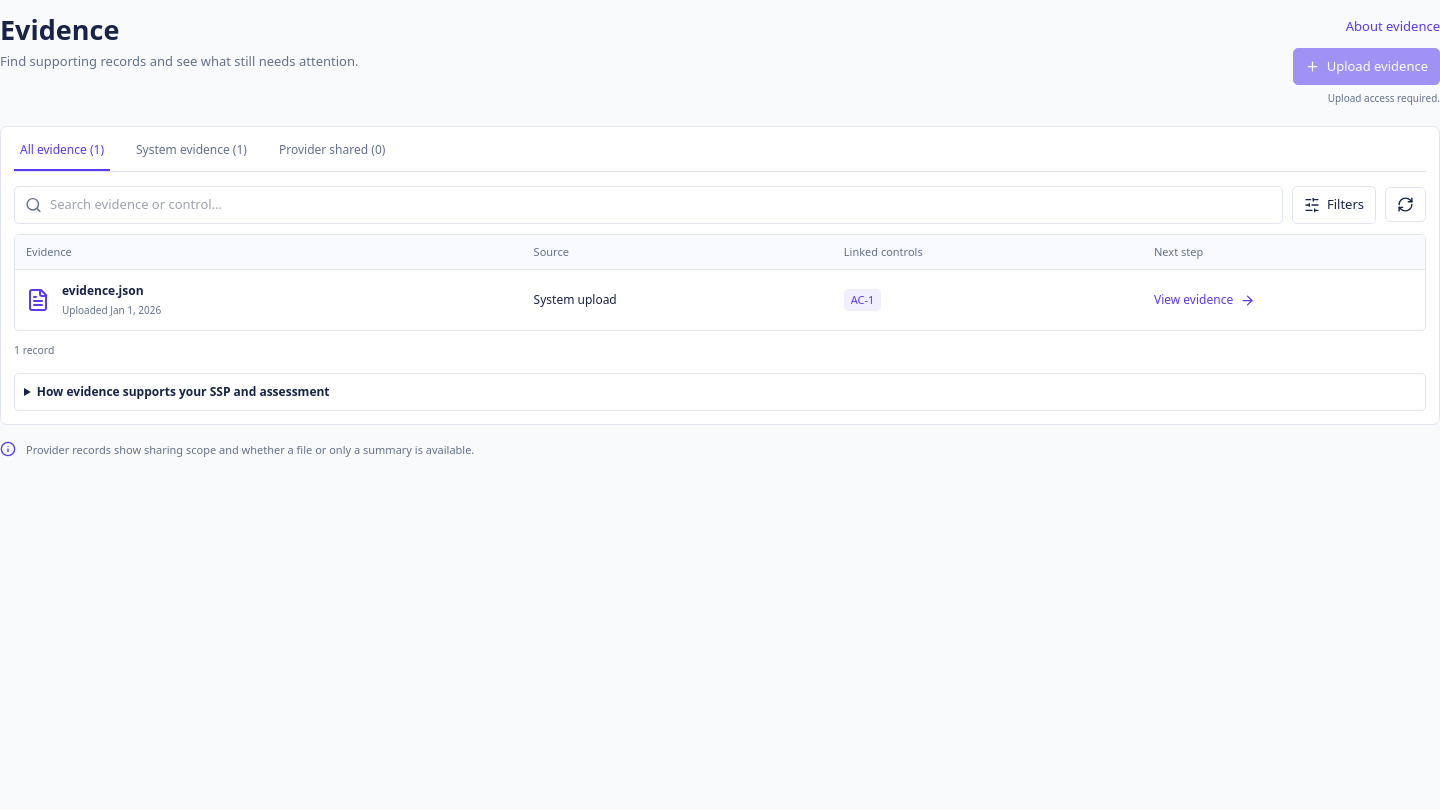
Test: Evidence mutation authorization (#1017) › opens a retained artifact through a keyboard-accessible review action
The image size is (1440, 810).
Click the button with aria-label "View evidence evidence.json": (94, 300) x1=26 y1=282 x2=161 y2=318
(page scrolled)
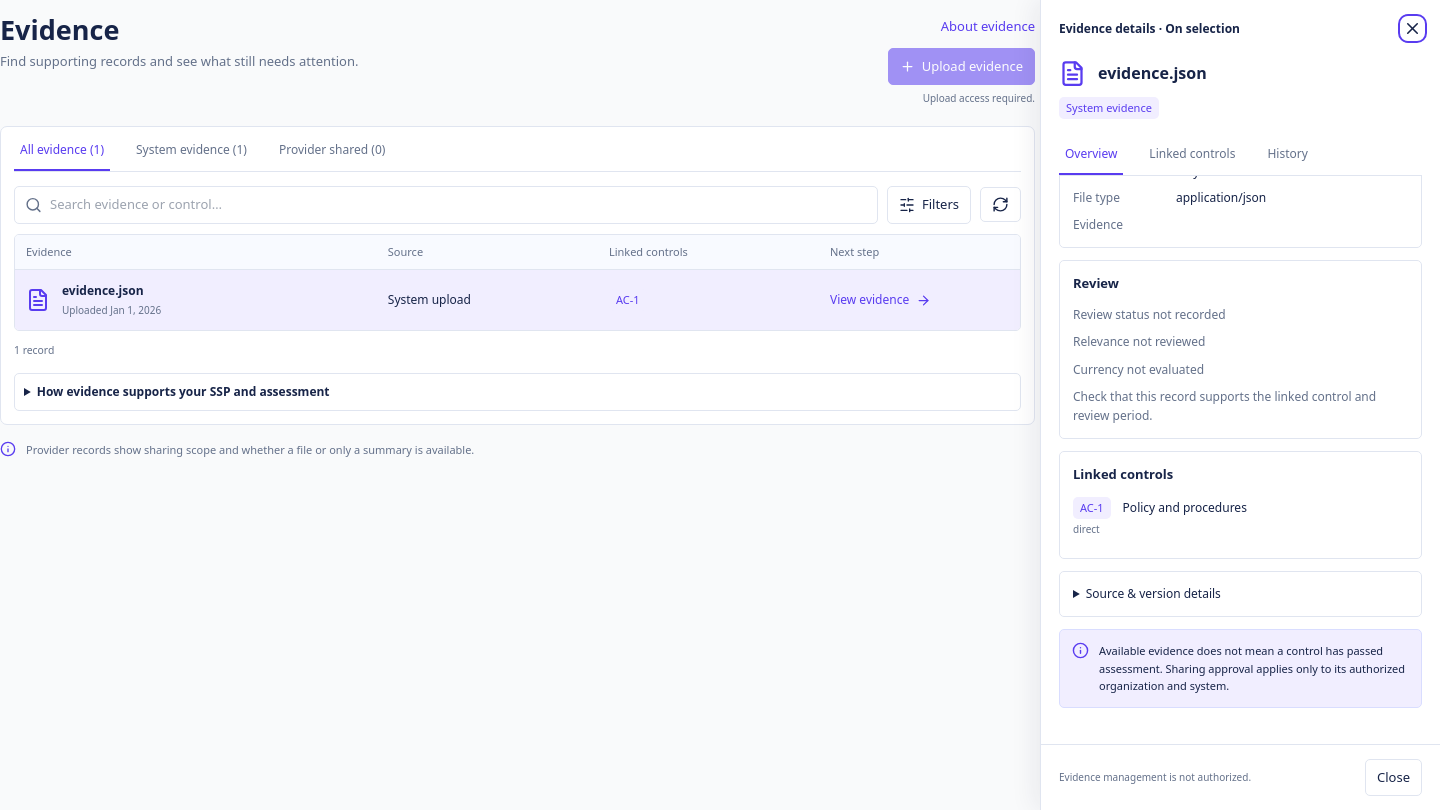
Click the heading "Source & version details": (1153, 594) x1=1086 y1=585 x2=1221 y2=602
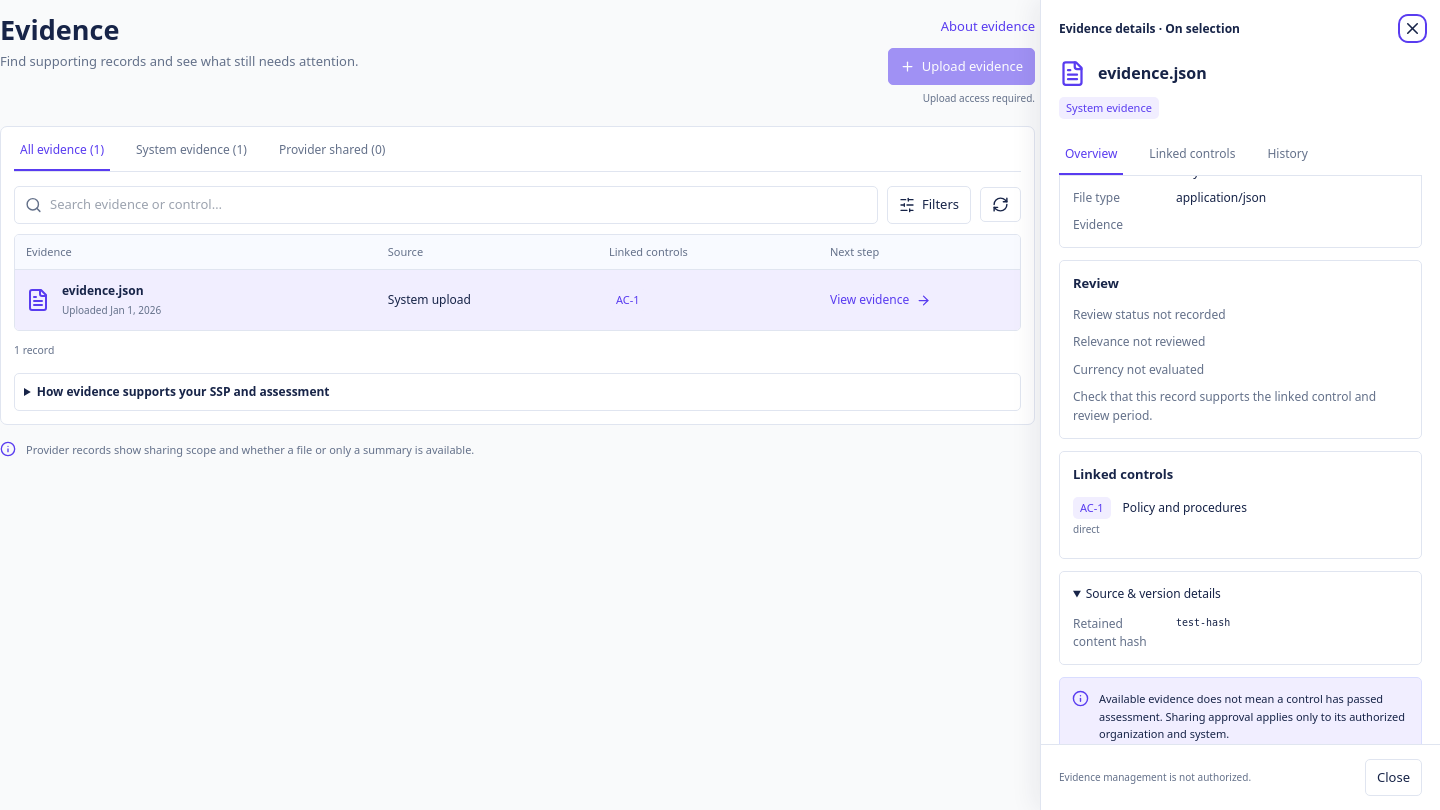
Expected: the heading "Evidence" is shown, x1=0 y1=11 x2=119 y2=48
Now the text "test-hash" is shown, box x1=1176 y1=617 x2=1230 y2=628
